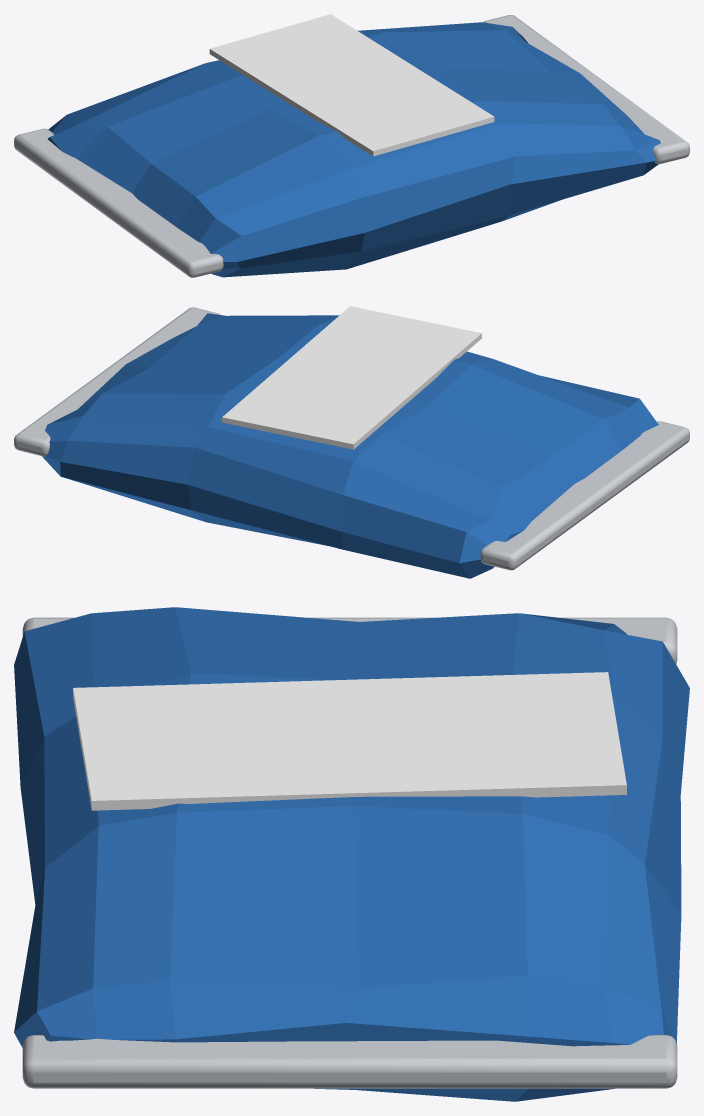
The model's file is item_wrapper_blue.fbx.
The picture shows the model from 3 angles, top to bottom: view 1: azimuth 30°, elevation 25°; view 2: azimuth 150°, elevation 25°; view 3: azimuth 270°, elevation 25°; orthographic projection. The views are drawn at different scales.
Parts seen in each view (by area): view 1: item_wrapper_blue; view 2: item_wrapper_blue; view 3: item_wrapper_blue.
Part boxes in pixels (x1,y1,x2,y2): item_wrapper_blue: (14, 14, 689, 277); item_wrapper_blue: (14, 306, 689, 578); item_wrapper_blue: (14, 607, 689, 1101).
Bounding box in the file's own units: 0.198 × 0.048 × 0.126.
